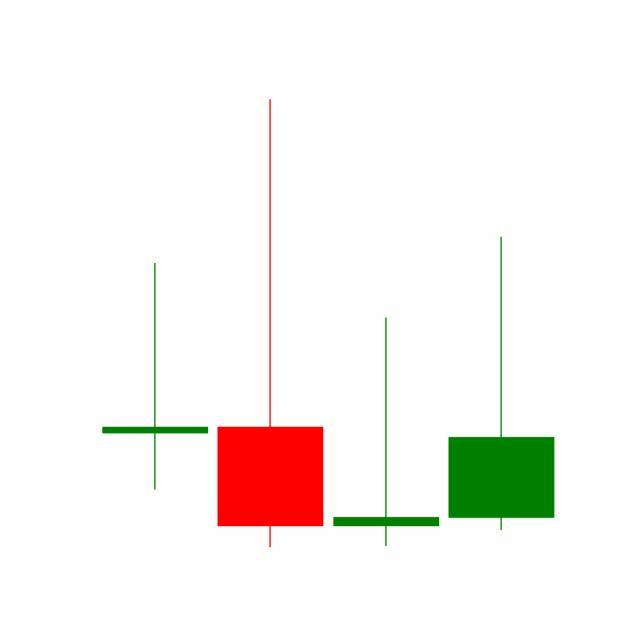Spinning Top: (329, 315, 445, 550)
